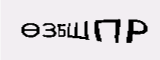А: (95, 17, 111, 36)
Б: (40, 5, 64, 29)
С: (108, 17, 120, 39)
Т: (62, 3, 83, 26)
У: (81, 11, 97, 28)
